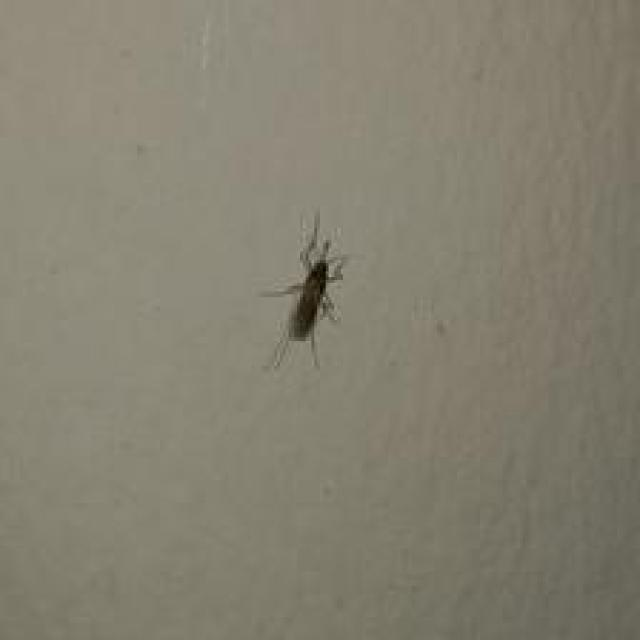Culex: (260, 208, 349, 372)
